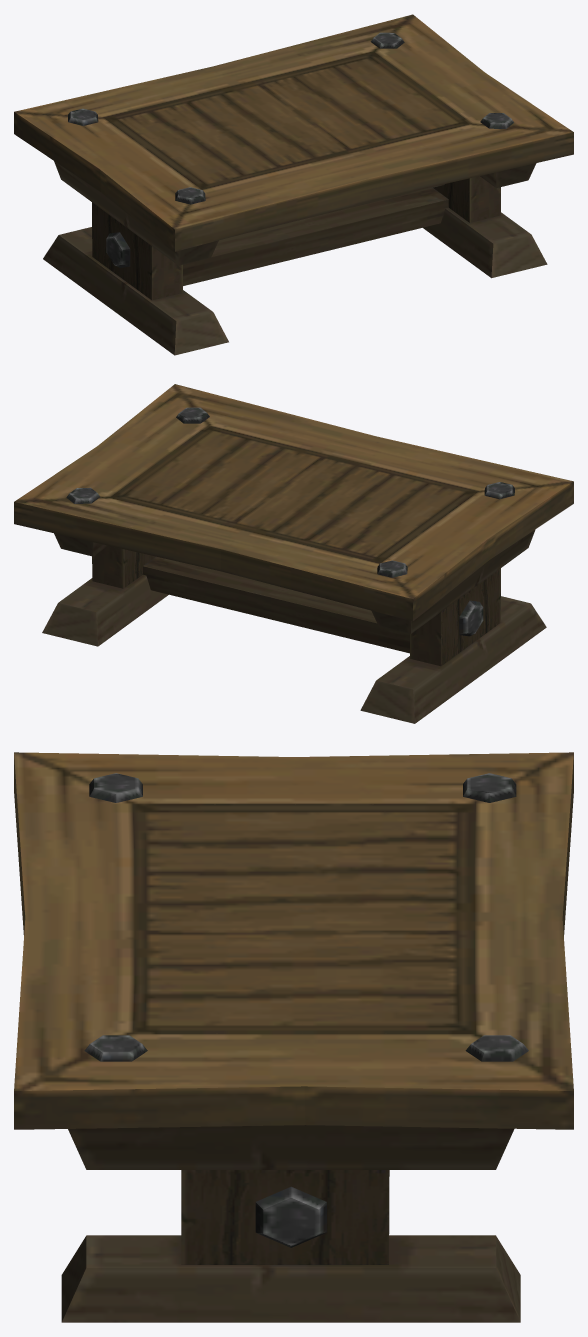
File: bandit_table_02.fbx
3 views of the same model, one above another, from view 1: azimuth 30°, elevation 25°; view 2: azimuth 150°, elevation 25°; view 3: azimuth 270°, elevation 25° (orthographic). The views are drawn at different scales.
Parts seen in each view (by area): view 1: obj0.704; view 2: obj0.704; view 3: obj0.704.
Part boxes in pixels (<box>): obj0.704: <box>14,14,573,355</box>; obj0.704: <box>14,384,573,723</box>; obj0.704: <box>14,752,573,1322</box>.
Bounding box in the file's own units: 2.93 × 1.01 × 2.05.
